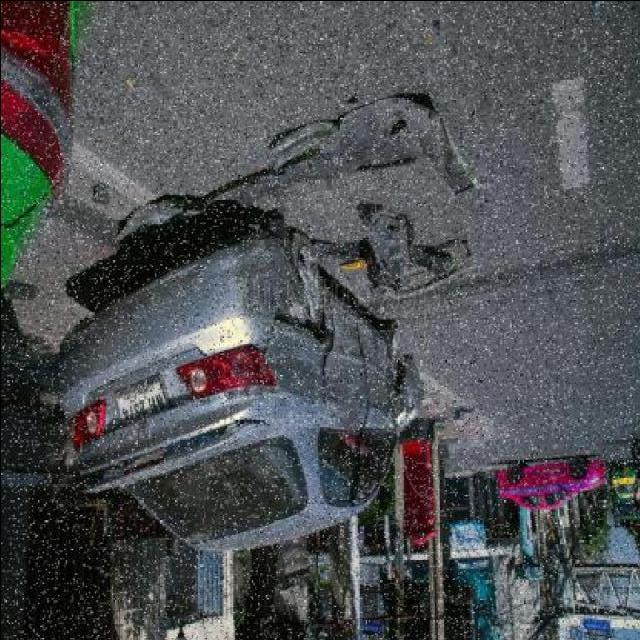doorouter-dent: (323, 304, 365, 427), (362, 328, 394, 427)
quaterpanel-dent: (240, 312, 320, 418)
rear-bumper-dent: (199, 225, 313, 329)
